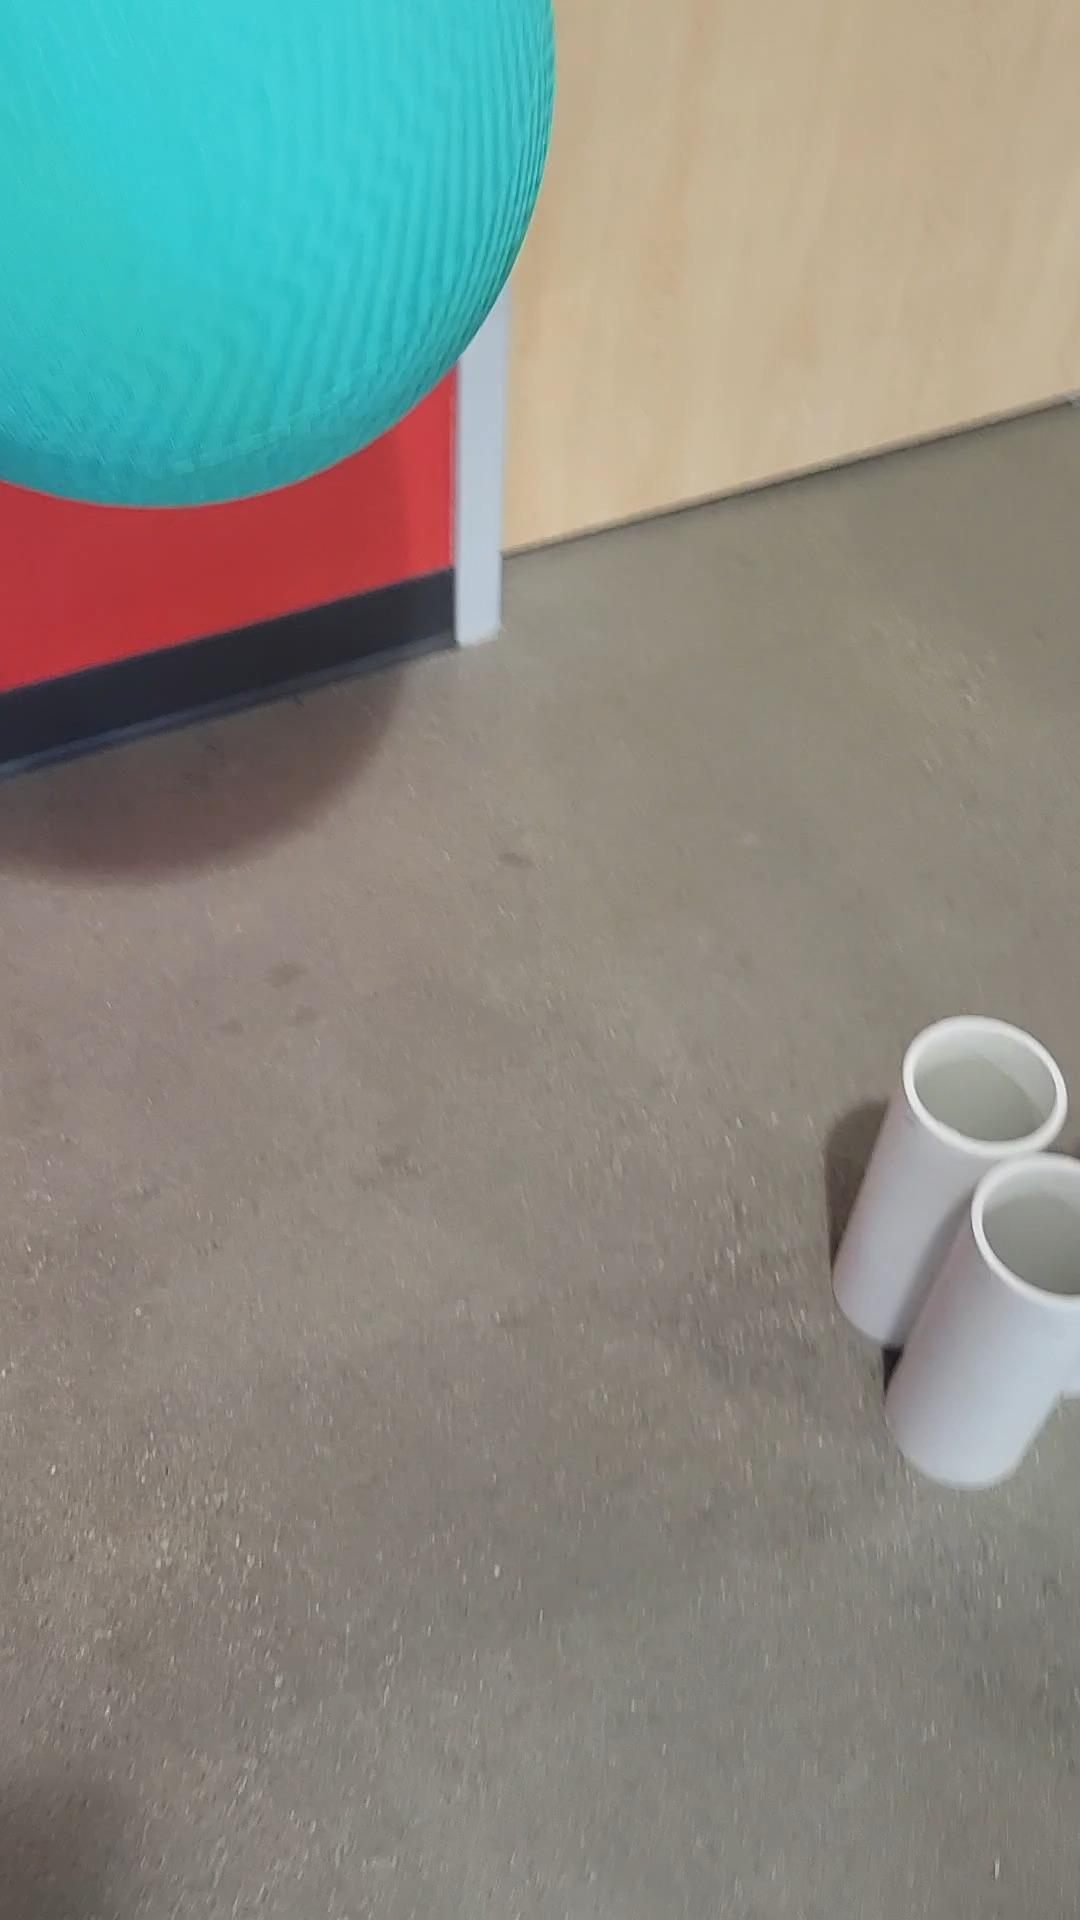algae: (0, 1, 566, 504)
coral: (840, 1015, 1055, 1361), (885, 1160, 1080, 1491)
